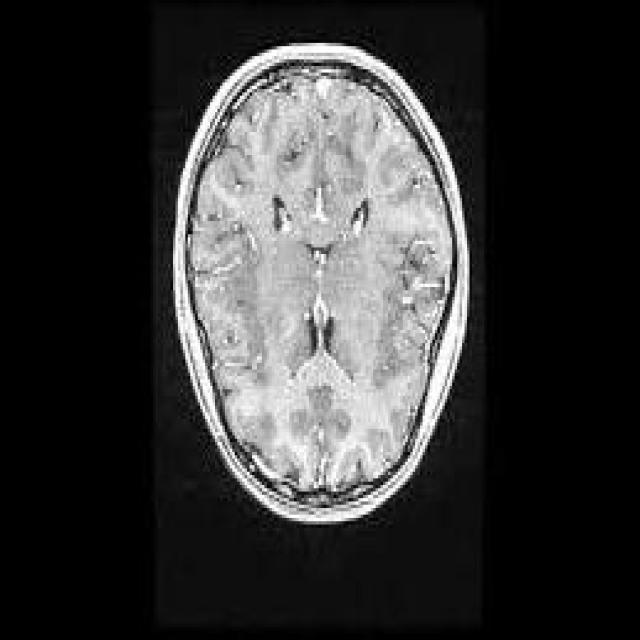notumor: (175, 43, 469, 528)
